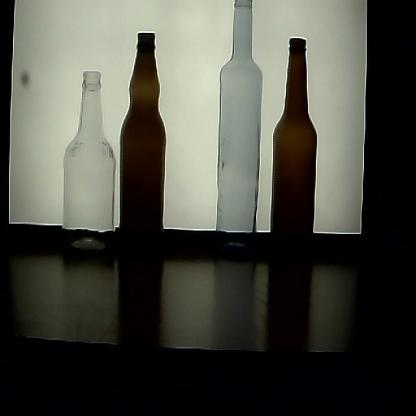Can: (210, 1, 266, 258), (116, 29, 173, 254), (266, 34, 320, 264), (59, 67, 119, 270)
